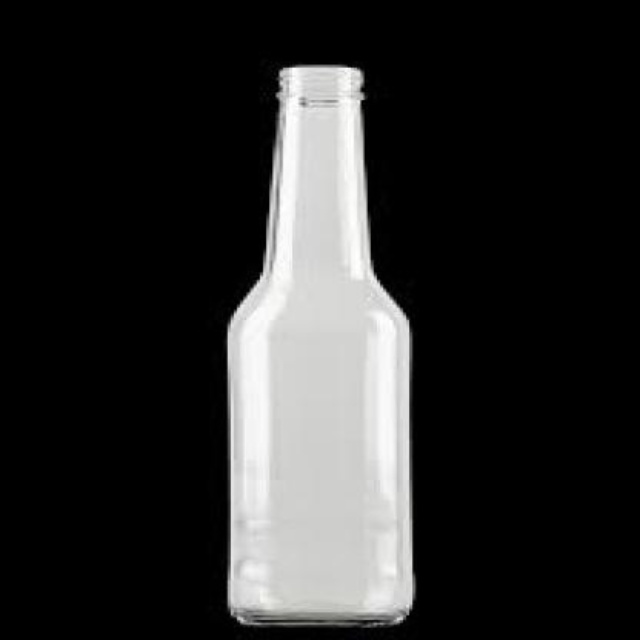trash: (228, 66, 412, 623)
